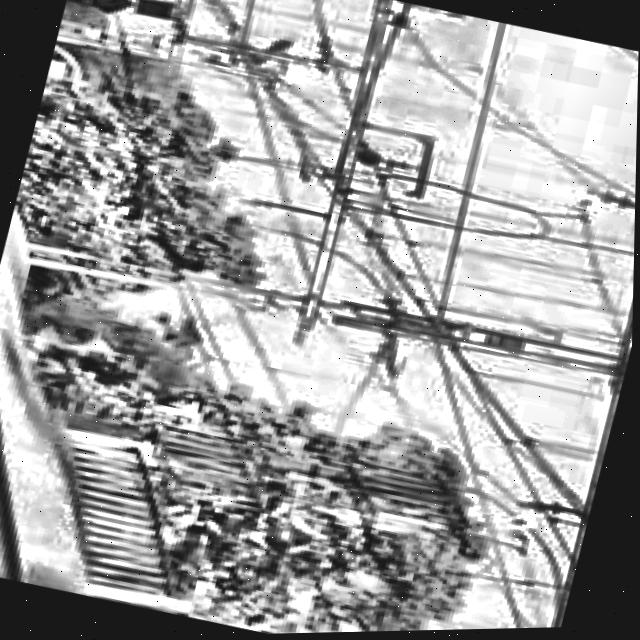Kereta: (0, 340, 222, 615), (0, 176, 98, 393)
